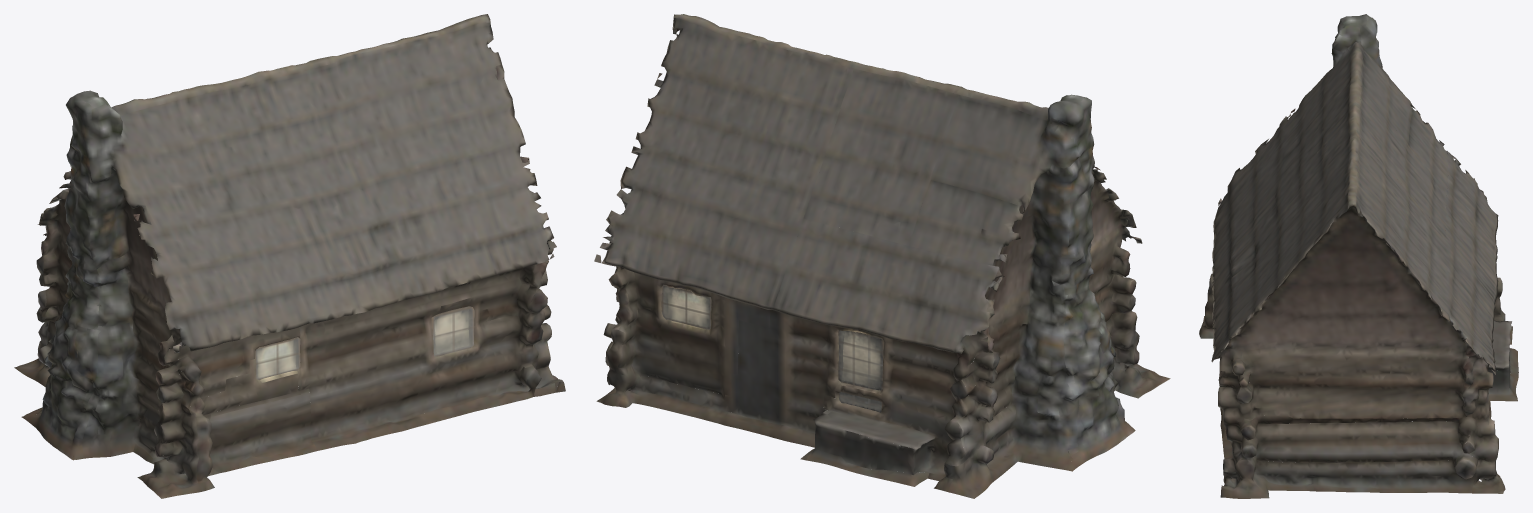
File: mountaineers_cabin.gltf
3 renders of one model, left to right at view 1: azimuth 30°, elevation 25°; view 2: azimuth 150°, elevation 25°; view 3: azimuth 270°, elevation 25°, orthographic. The views are drawn at different scales.
Visible parts, largest first — view 1: cabin_low, Plane; view 2: cabin_low, Plane; view 3: cabin_low.
Boxes of the visible parts, x1,y1,x2,y2 form: cabin_low: (14,14,565,498); Plane: (255,306,474,379); cabin_low: (594,14,1170,498); Plane: (661,284,884,412); cabin_low: (1199,14,1518,498).
Size of the model in its own units: 3.67 by 2.67 by 2.54.
2 materials, 2 textured.
